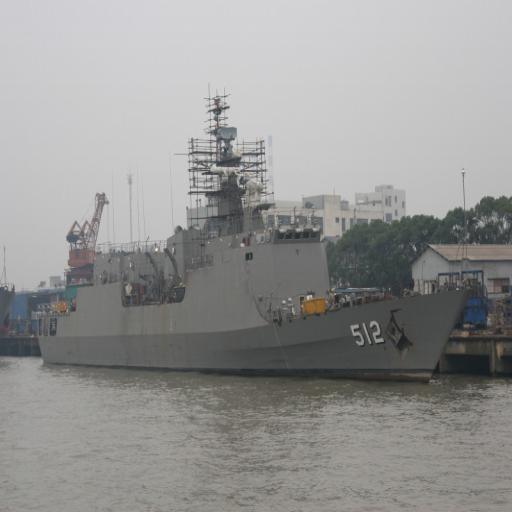Fragata: (32, 72, 478, 386)
